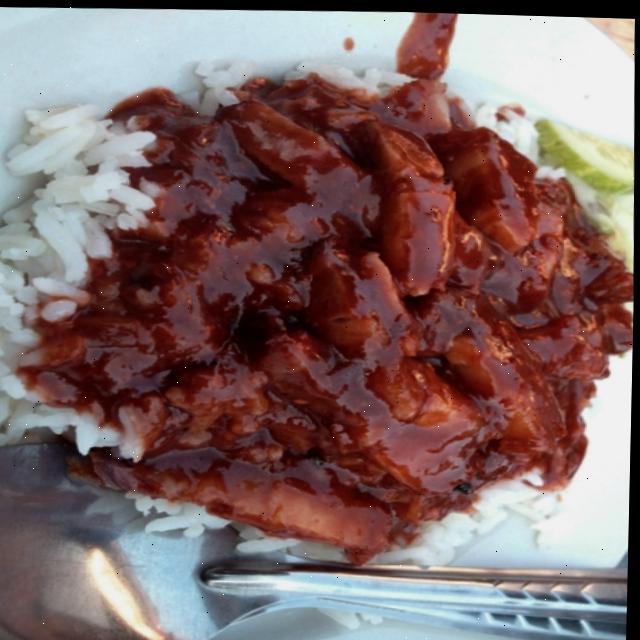猪肉菜式: (0, 42, 639, 580)
